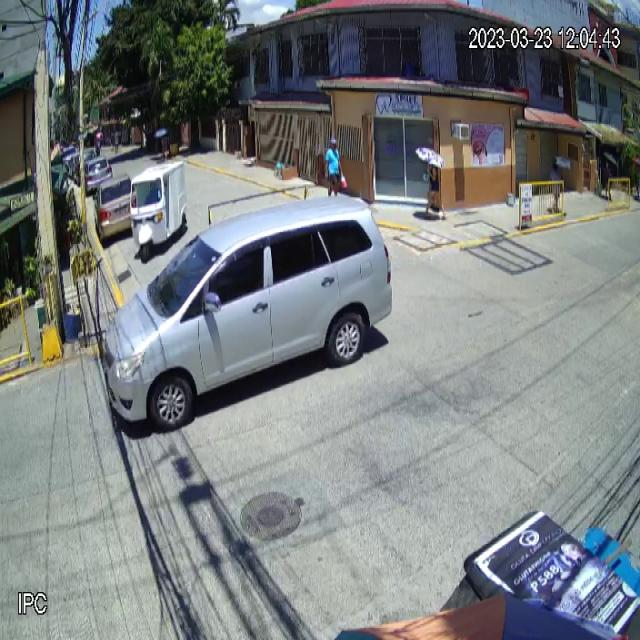Car: (102, 194, 394, 430)
